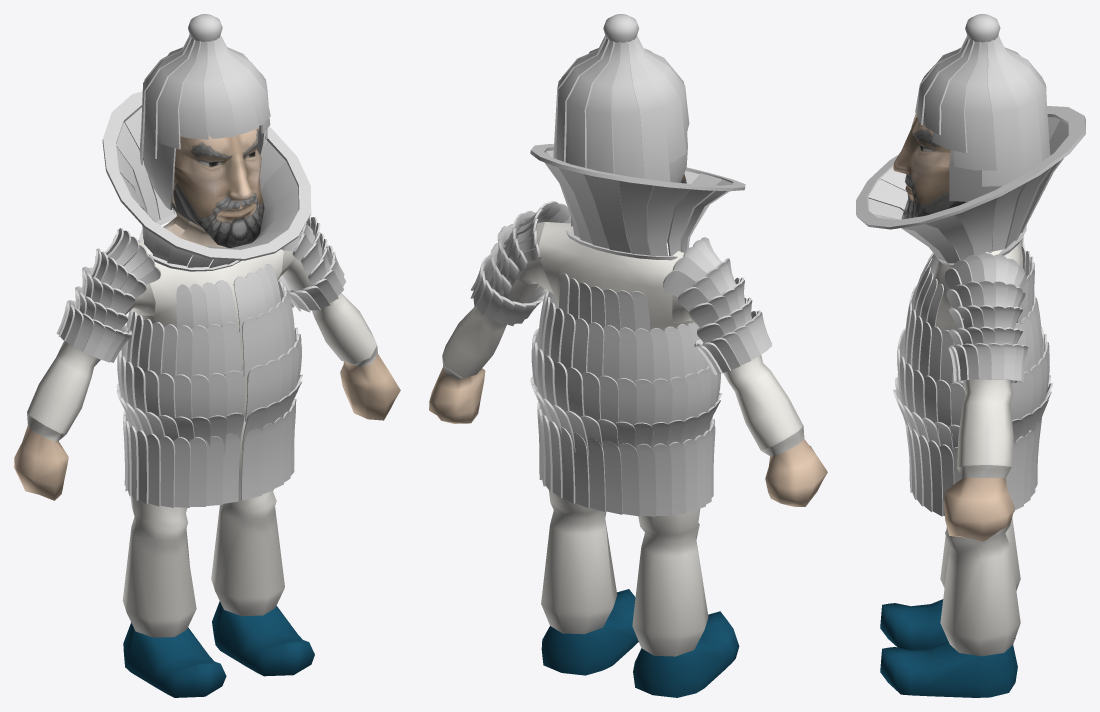
Rendered from general.FBX.
3 renders of one model, left to right at view 1: azimuth 30°, elevation 25°; view 2: azimuth 150°, elevation 25°; view 3: azimuth 270°, elevation 25°, orthographic. The views are drawn at different scales.
Visible parts, largest first — view 1: Box804, Cylinder005, Box1072, Box1071, Box1073, Box1060, Box1070, Box1074, Box946, Box821, Box918, Box917 (+34 smaller); view 2: Box804, Box1068, Box1069, Box1067, Box1066, Box1070, Box822, Cylinder005, Box820, Box821, Box805, Box1065 (+33 smaller); view 3: Box804, Cylinder005, Box1064, Box1063, Box1065, Box1062, Box809, Box1061, Box1075, Box1066, Box808, Box810 (+34 smaller).
Part boxes in pixels (box(x1,y1,x2,y2)): Box804: box(14, 128, 400, 697); Cylinder005: box(102, 91, 311, 260); Box1072: box(179, 41, 209, 139); Box1071: box(157, 40, 200, 149); Box1073: box(203, 40, 236, 138); Box1060: box(213, 38, 259, 134); Box1070: box(143, 38, 195, 158); Box1074: box(143, 141, 175, 209); Box946: box(241, 428, 263, 500); Box821: box(116, 122, 159, 222); Box918: box(189, 437, 207, 506); Box917: box(205, 436, 223, 505); Box804: box(429, 174, 827, 697); Box1068: box(612, 41, 644, 178); Box1069: box(628, 39, 670, 181); Box1067: box(586, 41, 621, 173); Box1066: box(565, 41, 614, 167); Box1070: box(633, 37, 686, 163); Box822: box(584, 174, 630, 252); Cylinder005: box(530, 144, 745, 191); Box820: box(646, 185, 688, 255); Box821: box(619, 180, 653, 255); Box805: box(559, 168, 609, 248); Box1065: box(556, 38, 609, 162); Box804: box(880, 112, 1022, 697); Cylinder005: box(856, 106, 1085, 229); Box1064: box(981, 40, 1023, 186); Box1063: box(954, 41, 996, 170); Box1065: box(993, 37, 1042, 174); Box1062: box(932, 41, 980, 153); Box809: box(955, 198, 997, 255); Box1061: box(923, 39, 974, 134); Box1075: box(949, 150, 1001, 201); Box1066: box(997, 35, 1050, 161); Box808: box(991, 184, 1024, 251); Box810: box(925, 215, 974, 260).
Size of the model in its own units: 45.58 by 74.55 by 24.04.
